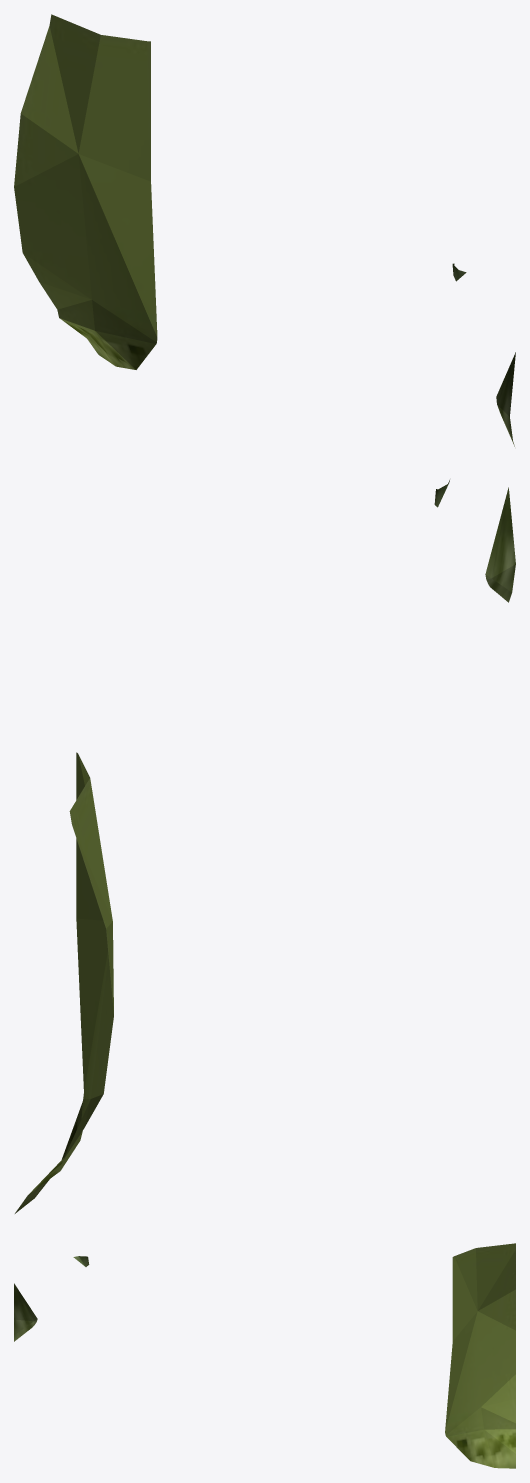
3 renders of one model, top to bottom at view 1: azimuth 30°, elevation 25°; view 2: azimuth 150°, elevation 25°; view 3: azimuth 270°, elevation 25°, orthographic. The views are drawn at different scales.
Size of the model in its own units: 0.3443 by 1.37 by 2.95.
Materials: 1 (1 with a texture image).
